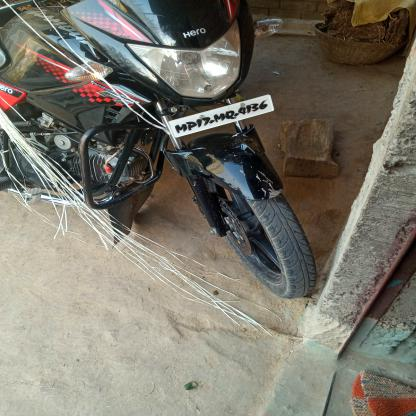Number_Plate_Detected: (171, 96, 273, 135)
